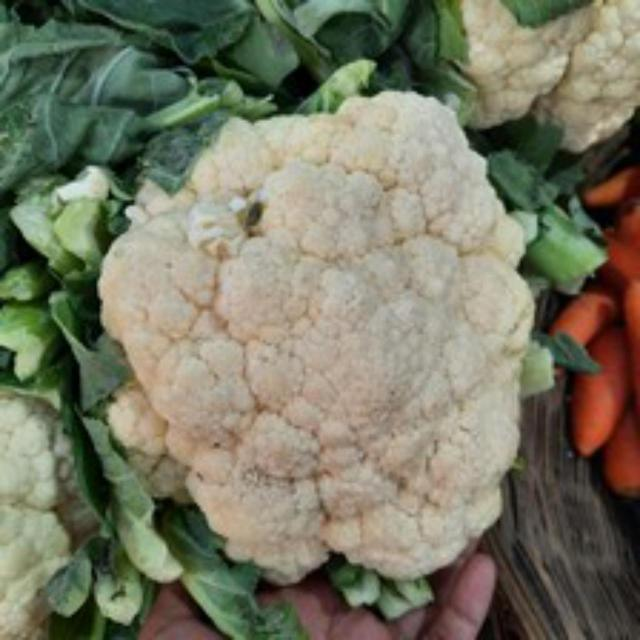cauliflower: (101, 85, 564, 585)
